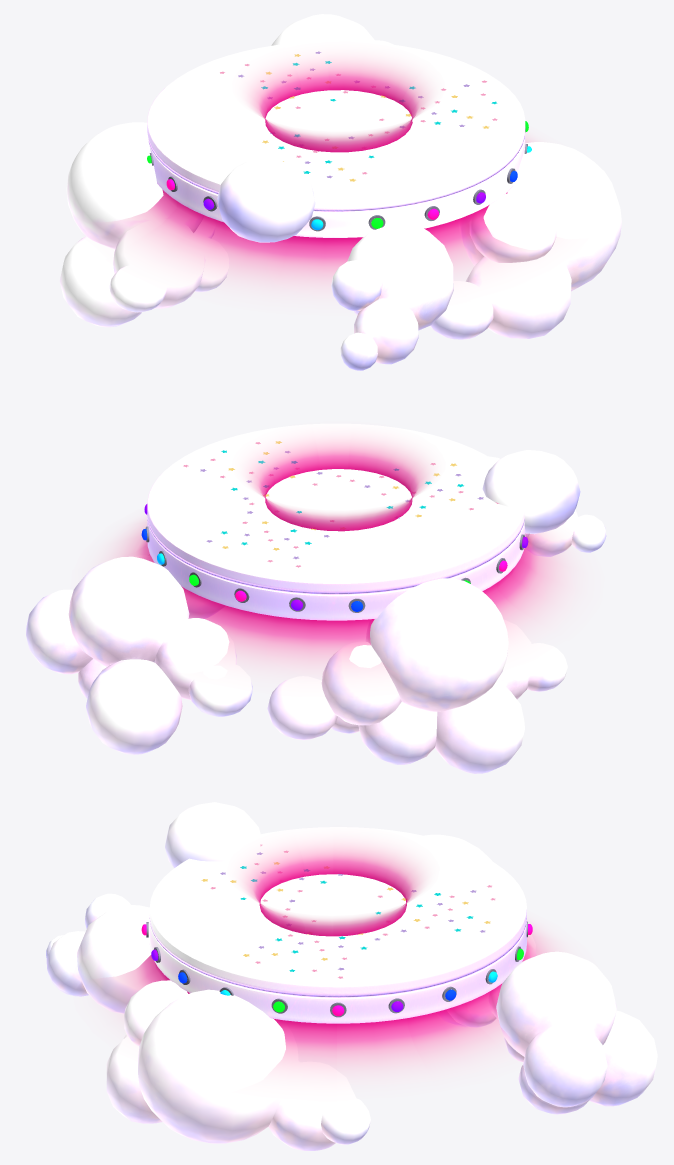
File: elevator.glb
3 renders of one model, top to bottom at view 1: azimuth 30°, elevation 25°; view 2: azimuth 150°, elevation 25°; view 3: azimuth 270°, elevation 25°, orthographic.
Parts seen in each view (by area): view 1: CloudHover.001, BakedStand.003, Circle.012, Circle.013, MainRingLights.002, stars; view 2: CloudHover.001, BakedStand.003, Circle.012, Circle.013, MainRingLights.002, stars; view 3: CloudHover.001, BakedStand.003, Circle.012, Circle.013, MainRingLights.002, stars.
Boxes of the visible parts, x1,y1,x2,y2 form: CloudHover.001: (59, 14, 621, 370); BakedStand.003: (147, 41, 525, 237); Circle.012: (116, 136, 535, 290); Circle.013: (246, 56, 431, 152); MainRingLights.002: (147, 121, 531, 231); stars: (220, 51, 497, 181); CloudHover.001: (26, 450, 606, 773); BakedStand.003: (147, 423, 525, 620); Circle.012: (107, 518, 569, 672); Circle.013: (246, 435, 431, 531); MainRingLights.002: (141, 504, 528, 612); stars: (183, 441, 499, 567); CloudHover.001: (46, 802, 657, 1150); BakedStand.003: (149, 827, 526, 1023); Circle.012: (105, 922, 559, 1075); Circle.013: (240, 840, 425, 936); MainRingLights.002: (141, 921, 532, 1017); stars: (201, 844, 495, 978).
Size of what is drawn, in the model's own units: 17.6 by 7.11 by 17.6.
10 materials, 4 textured.
